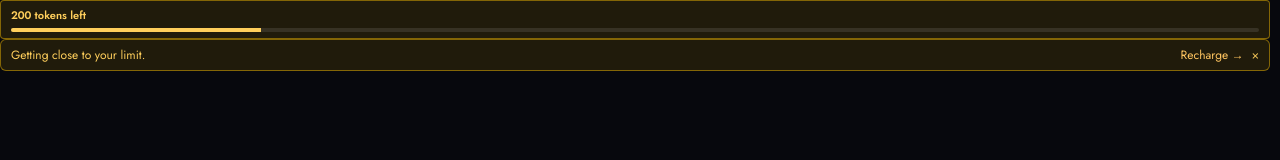
TokenMeter › each threshold banner fires only once per session even if polled again at the same level
This screenshot has width=1280, height=160.
Expected: the element with test id "token-meter-banner" is shown, [0,38,1270,70]
What coordinates should you click on to do the following:
click the button with test id "token-meter-banner-dismiss"
I would click on:
 (1255, 54)
Its box is [1252,46,1259,64].
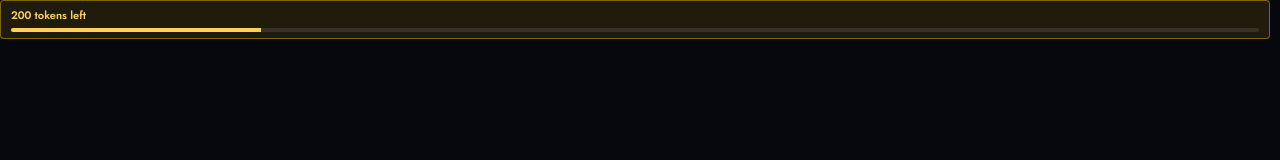
Result: the element with test id "token-meter-banner" is gone
